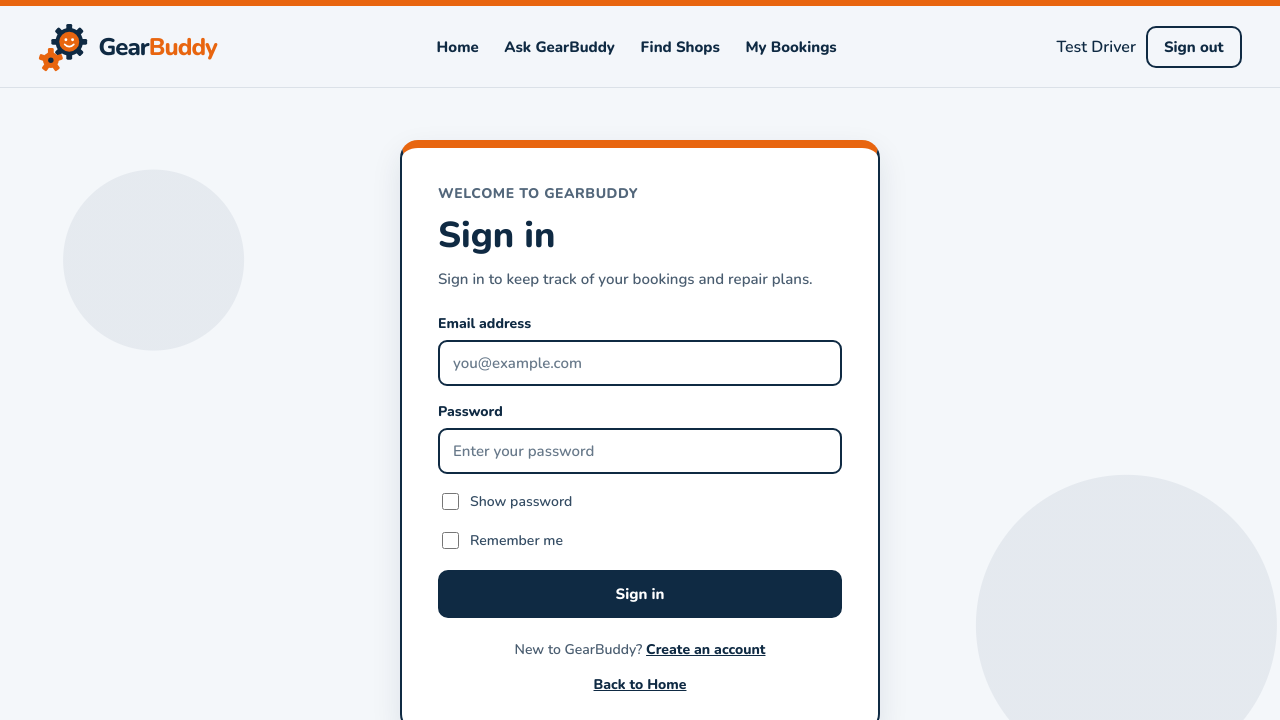
Scenario: GearBuddy account forms › signs in and stores a remembered session in local storage
This screenshot has width=1280, height=720.
Type "driver@example.com" into the field labelled "Email address" at (640,363), box [438, 340, 842, 386]
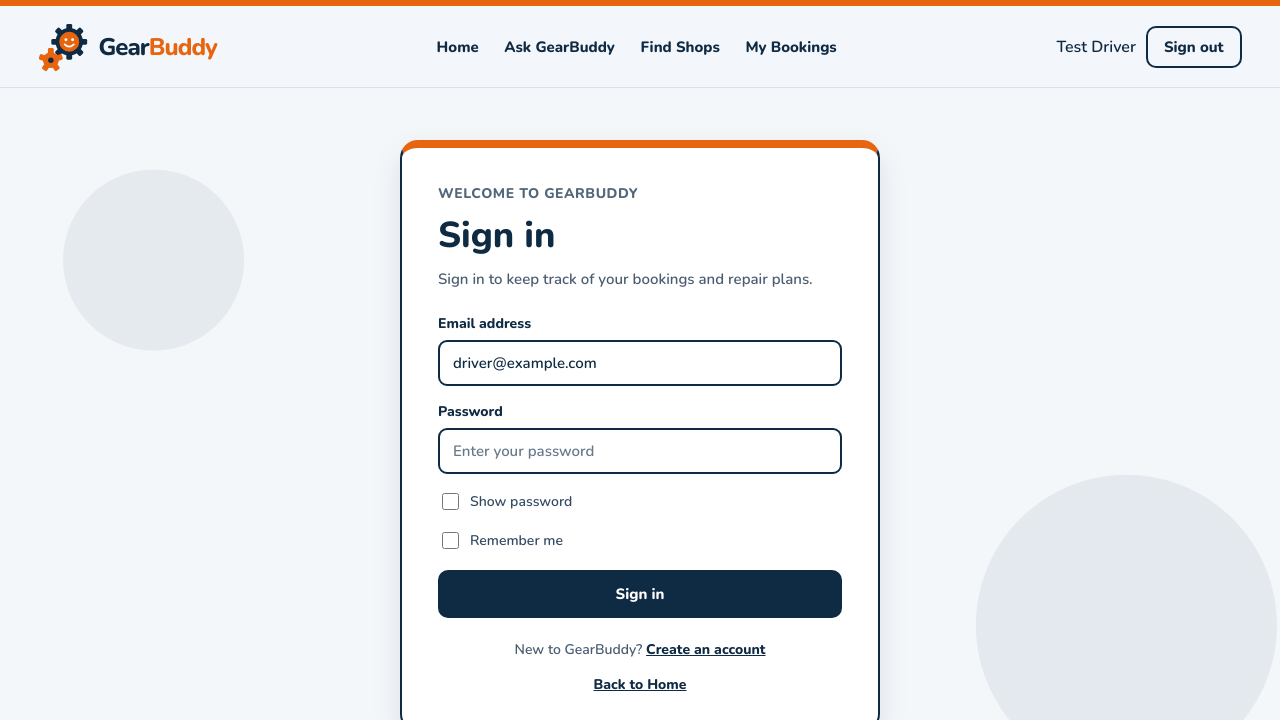
Type "test-password-123" into the password field labelled "Password" at (640,451), box [438, 428, 842, 474]
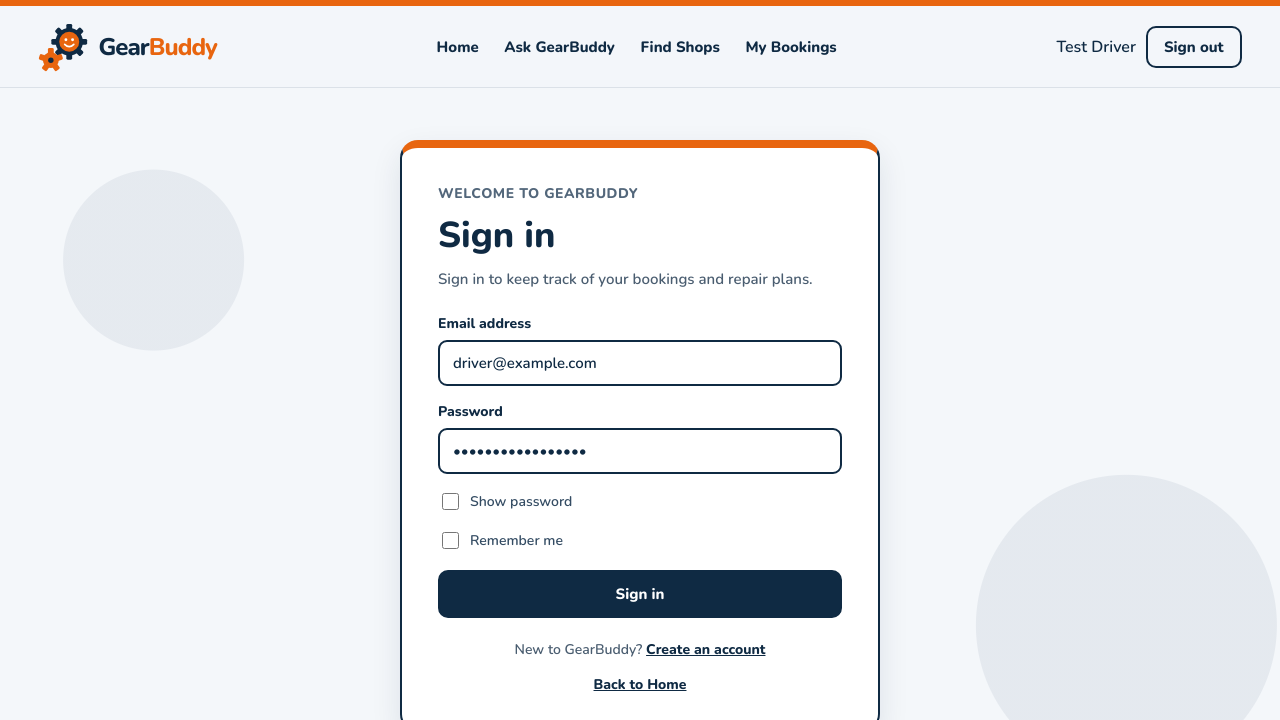
Click the checkbox labelled "Remember me" at (450,541), box [442, 532, 459, 549]
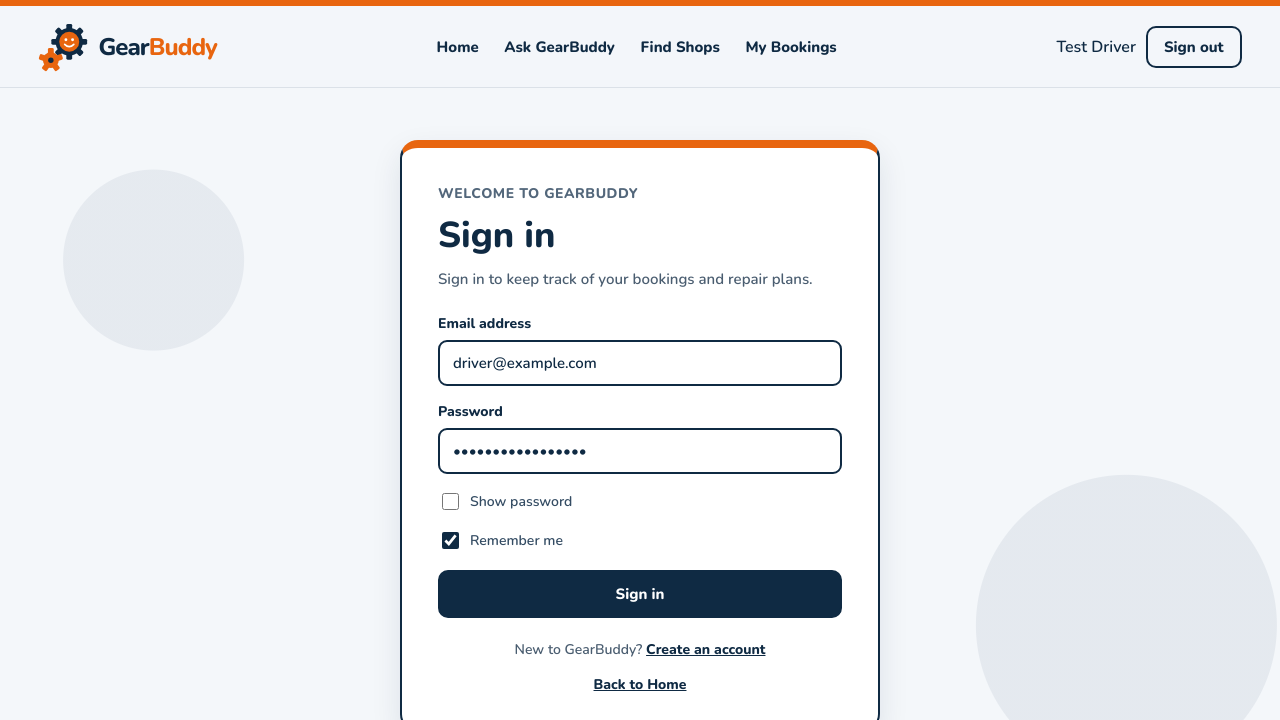
Submit the form "Sign in", box [438, 314, 842, 618]
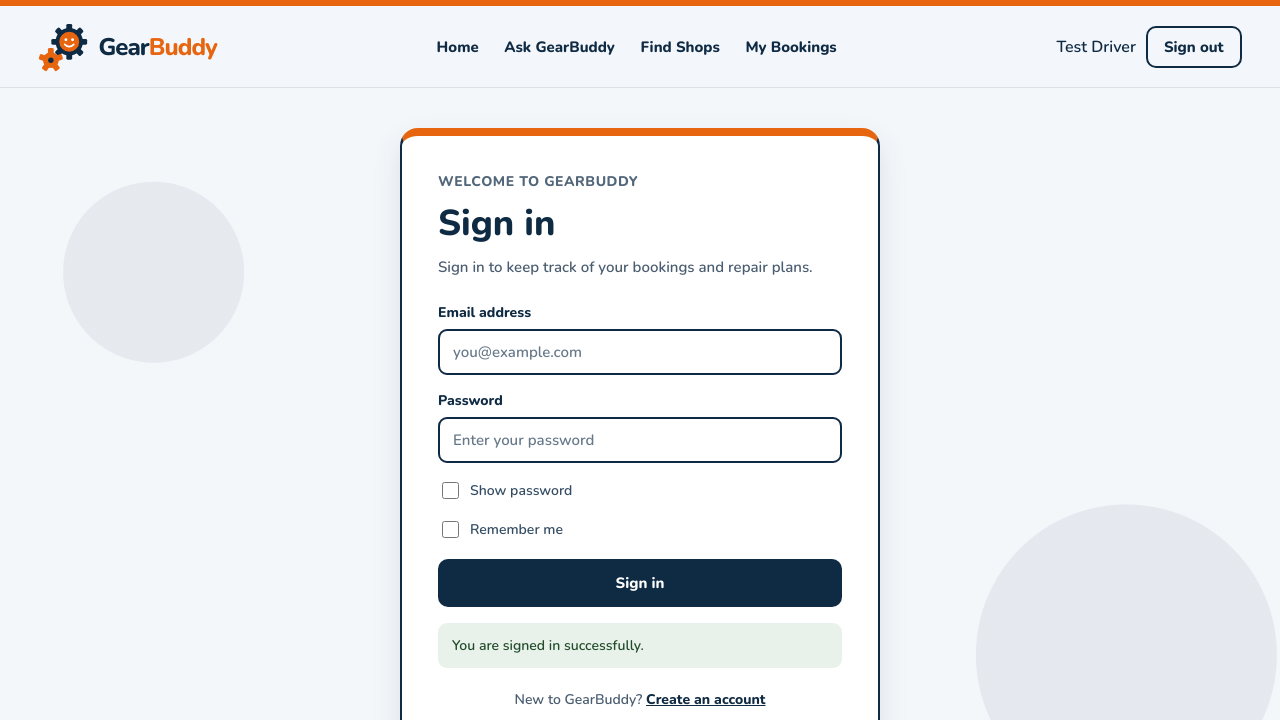
Check: the message reads "You are signed in successfully.", box [452, 636, 644, 654]
